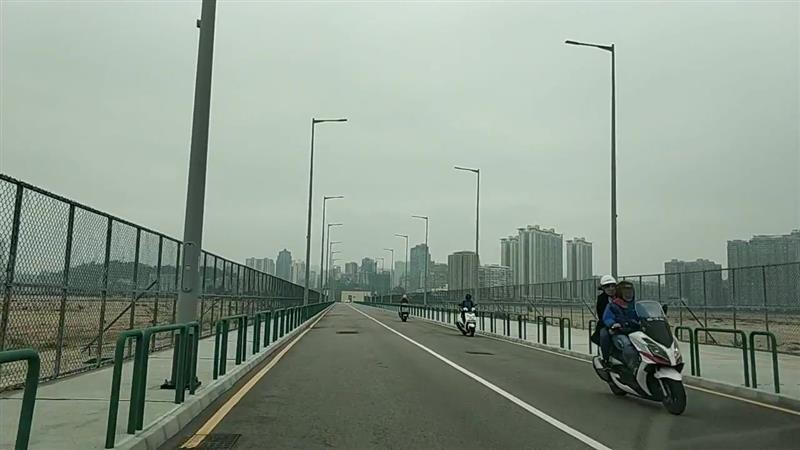motorcycle: (589, 275, 693, 417), (452, 292, 481, 337), (396, 293, 411, 322)
